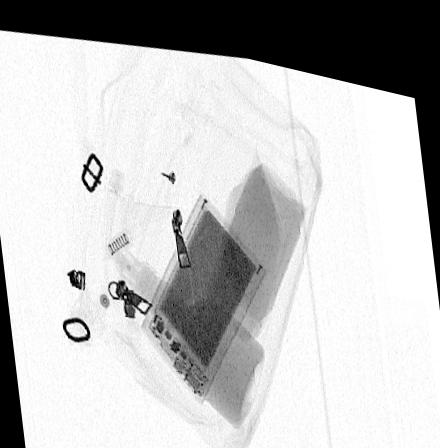Powerbank: (139, 183, 266, 395)
